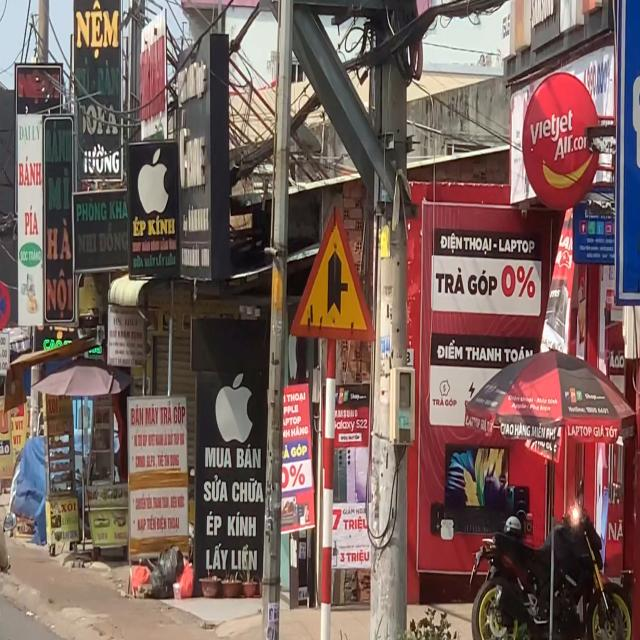Giao voi duong khong uu tien: (286, 194, 380, 350)
